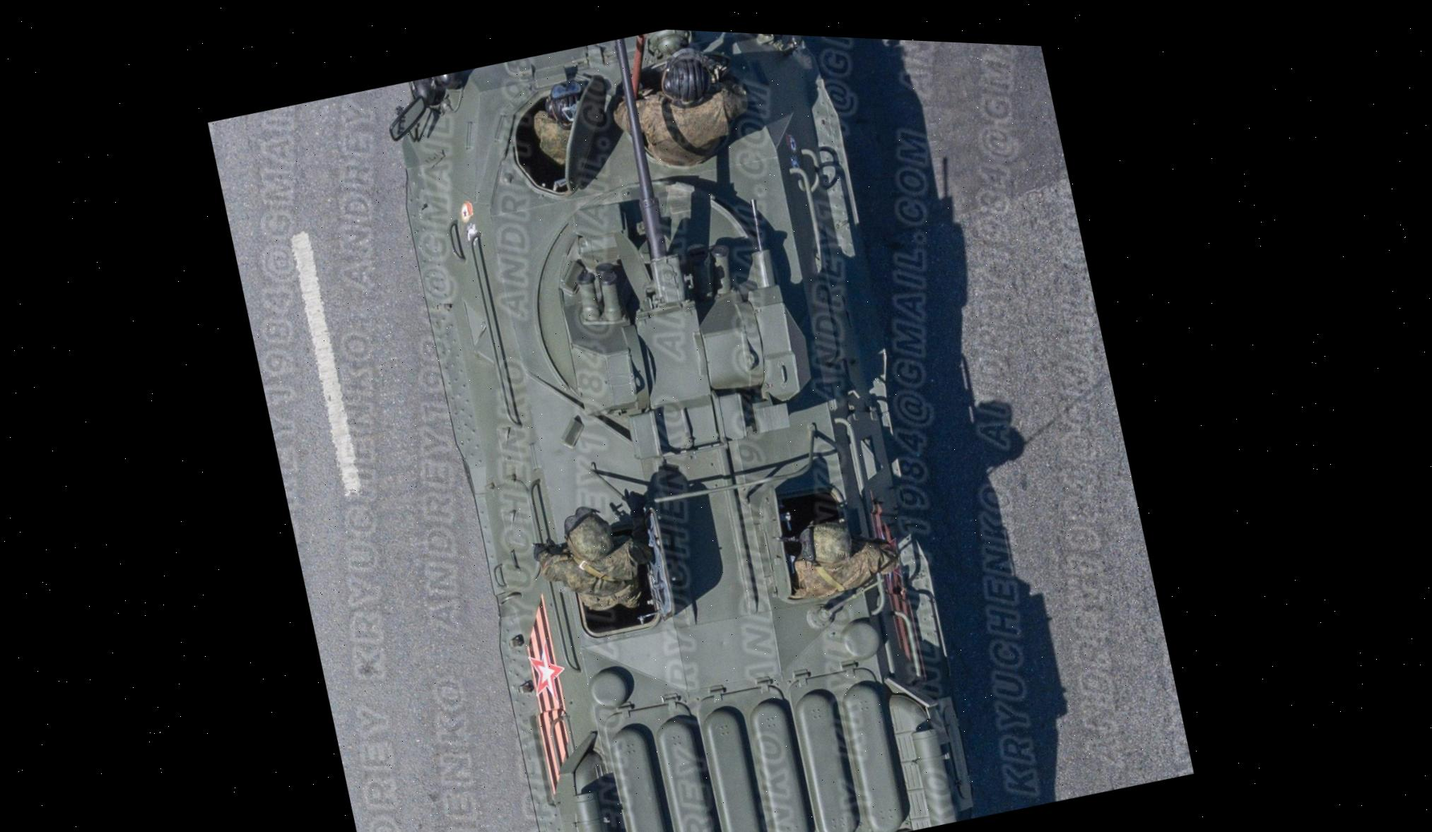tank: (315, 15, 1109, 832)
